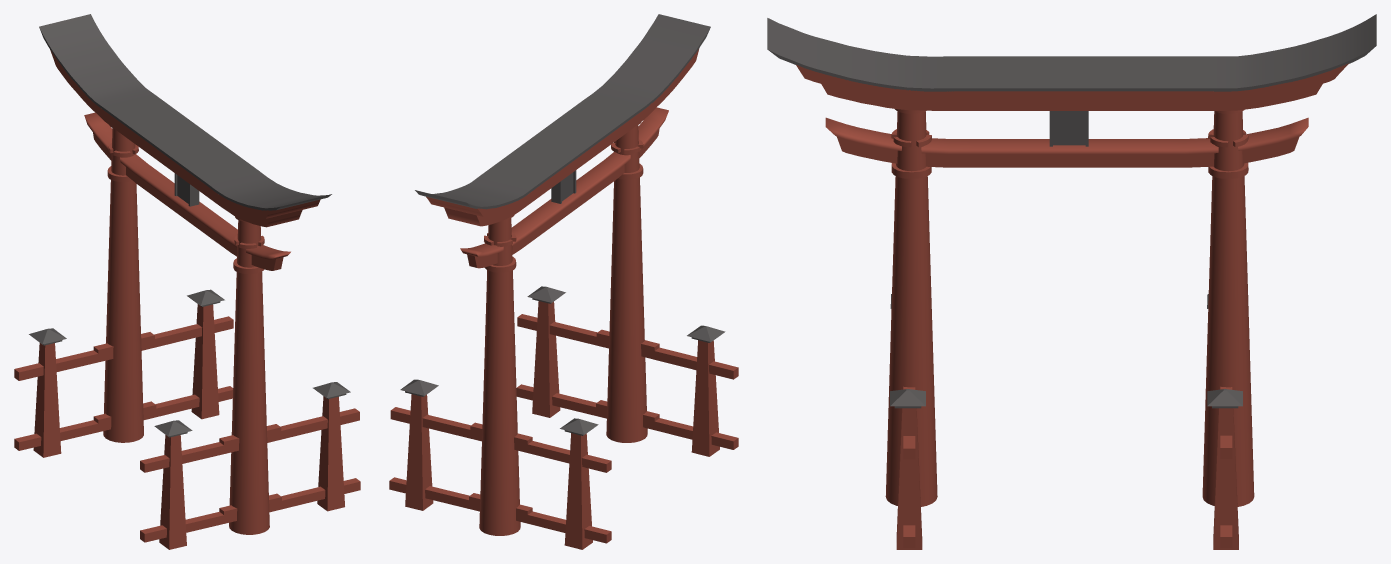
File: Torii.fbx
3 renders of one model, left to right at view 1: azimuth 30°, elevation 25°; view 2: azimuth 150°, elevation 25°; view 3: azimuth 270°, elevation 25°, orthographic. The views are drawn at different scales.
Visible parts, largest first — view 1: pCube35; view 2: pCube35; view 3: pCube35.
Boxes of the visible parts, x1,y1,x2,y2 form: pCube35: (14,14,360,549); pCube35: (389,14,738,549); pCube35: (767,14,1376,549).
Size of the model in its own units: 6.69 by 11.01 by 13.01.
